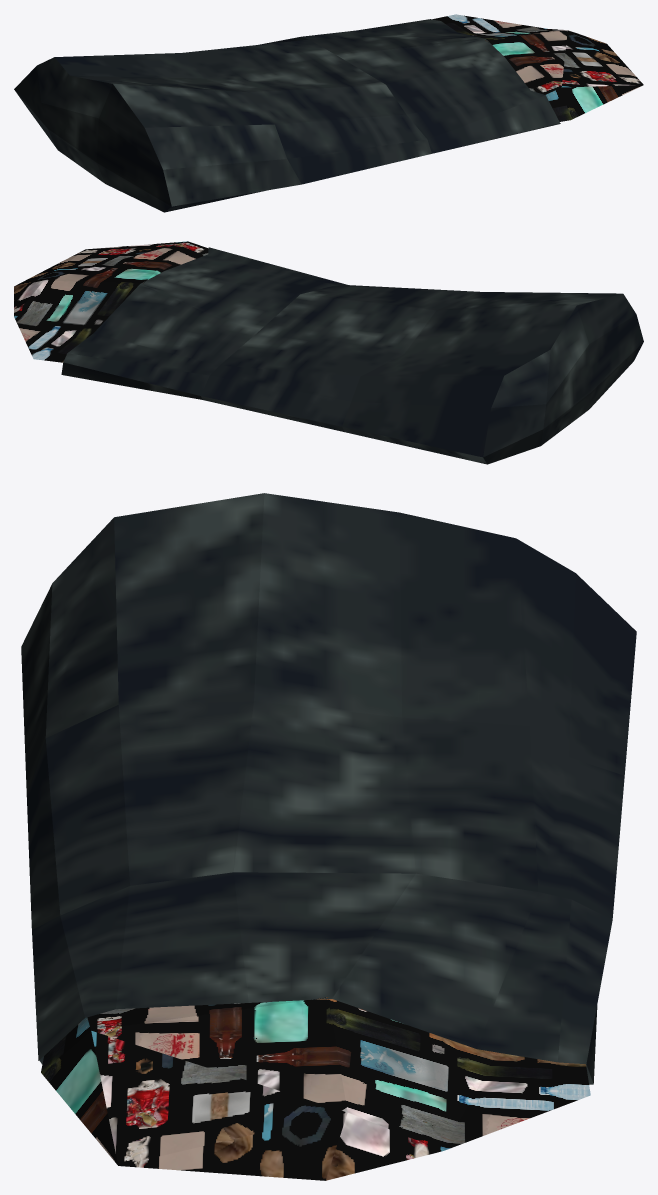
The model's file is Urban_Trashbag3_Model.fbx.
3 renders of one model, top to bottom at view 1: azimuth 30°, elevation 25°; view 2: azimuth 150°, elevation 25°; view 3: azimuth 270°, elevation 25°, orthographic. The views are drawn at different scales.
Visible parts, largest first — view 1: Urban_Trashbag3_Mesh; view 2: Urban_Trashbag3_Mesh; view 3: Urban_Trashbag3_Mesh.
Boxes of the visible parts, bbox=[...] form: Urban_Trashbag3_Mesh: bbox=[14, 14, 643, 212]; Urban_Trashbag3_Mesh: bbox=[14, 241, 643, 464]; Urban_Trashbag3_Mesh: bbox=[21, 493, 636, 1180].
Bounding box in the file's own units: 1.73 × 0.3175 × 0.8694.
